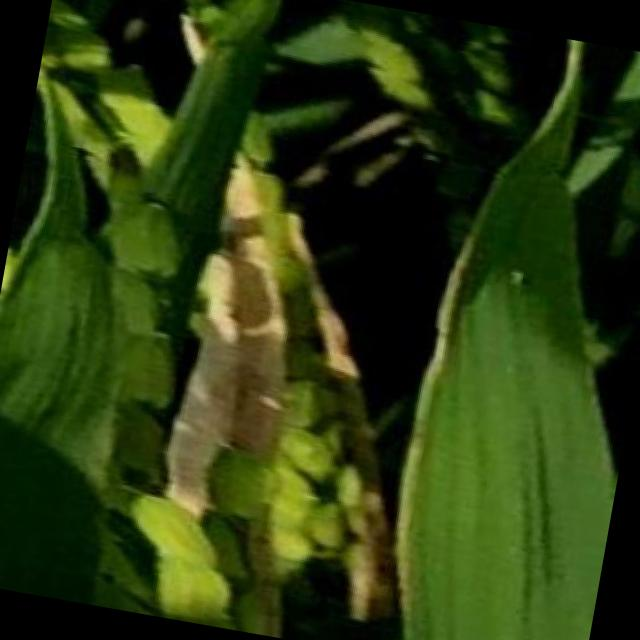Rice_Bacterial_Blight: (364, 207, 637, 640)
